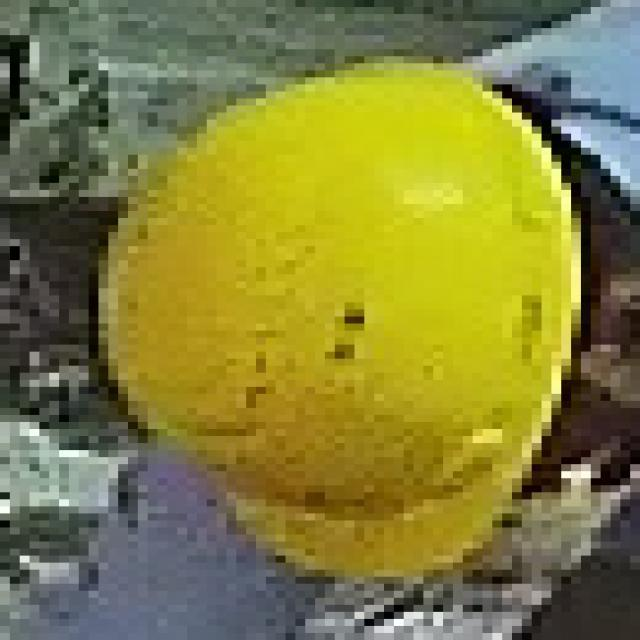yellow helmet: (93, 56, 584, 586)
